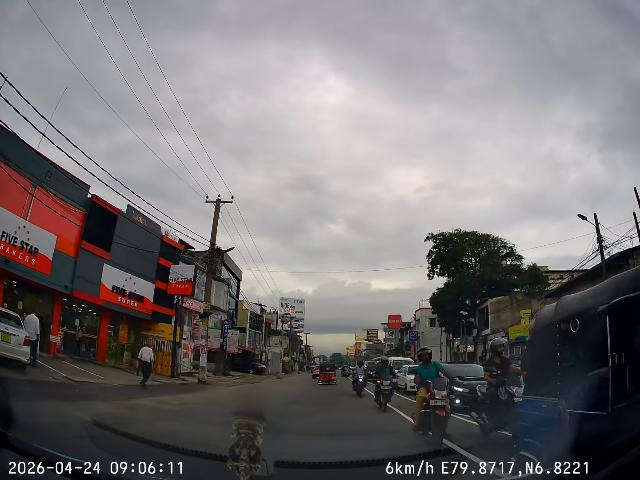illegal overtaking: (410, 346, 458, 455), (374, 358, 400, 411), (349, 359, 369, 395)
